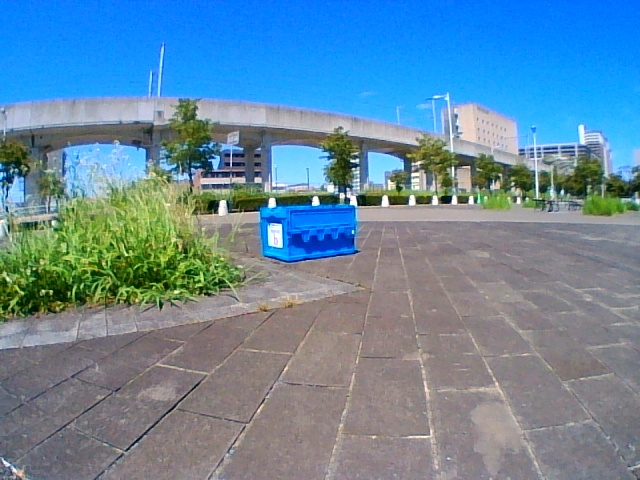blue_box: (261, 206, 355, 260)
tag_b: (269, 224, 283, 247)
